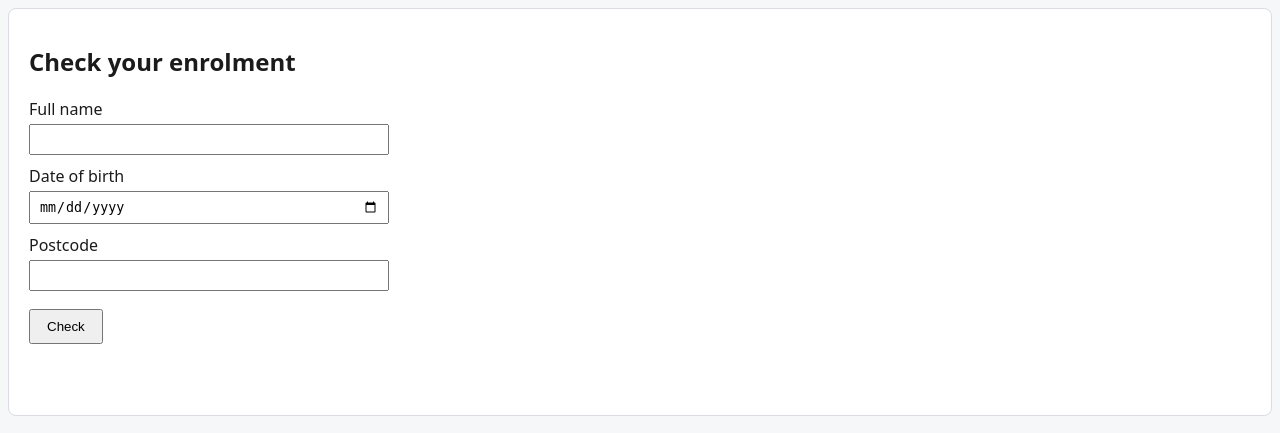
SEC-08 EnrolmentCheckForm › shows only a generic not-found message
This screenshot has width=1280, height=433.
In the field labelled "Full name": coordinates (209, 139) [29, 124, 389, 155], type "Jane Smith"
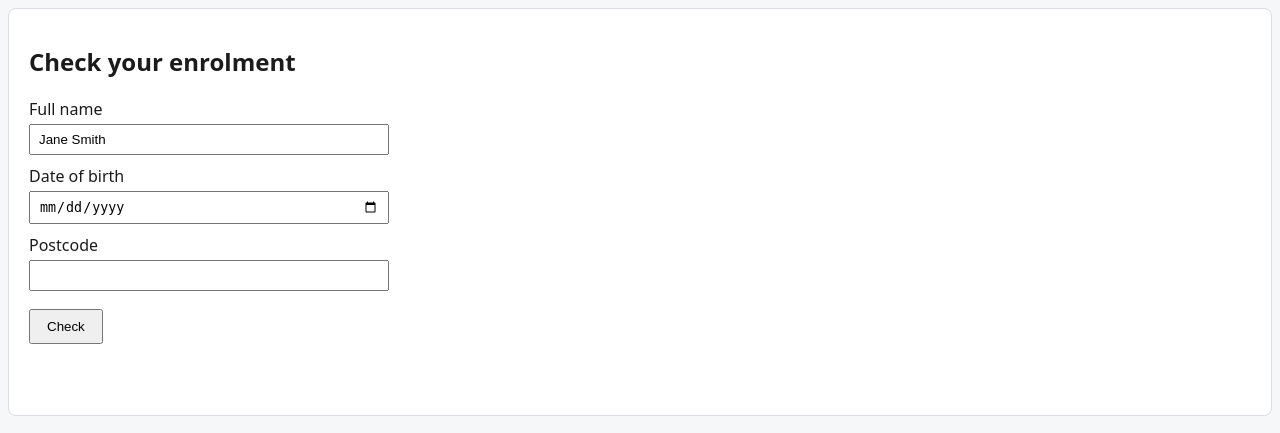
In the date field labelled "Date of birth": coordinates (209, 207) [29, 191, 389, 224], type "1990-01-01"
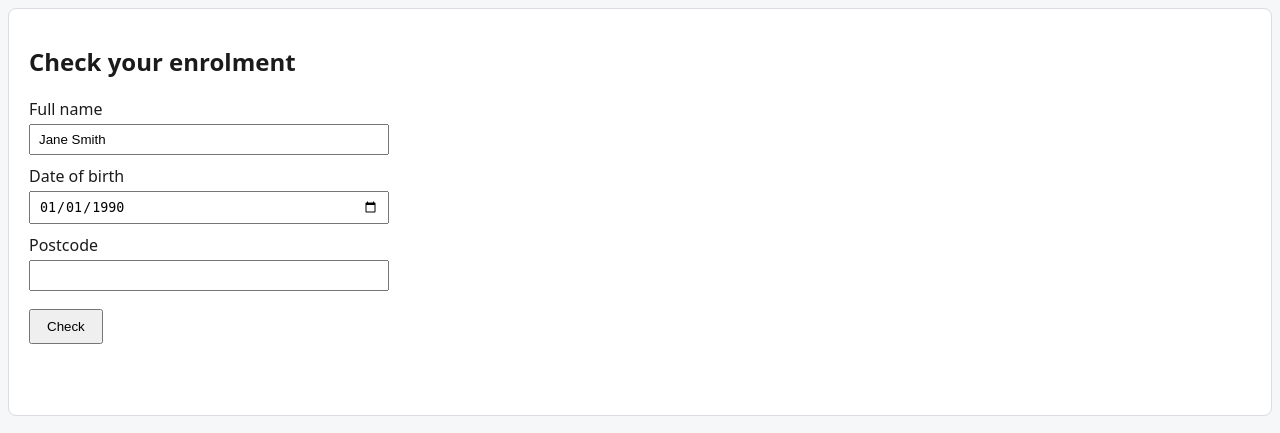
In the field labelled "Postcode": coordinates (209, 276) [29, 260, 389, 291], type "3000"
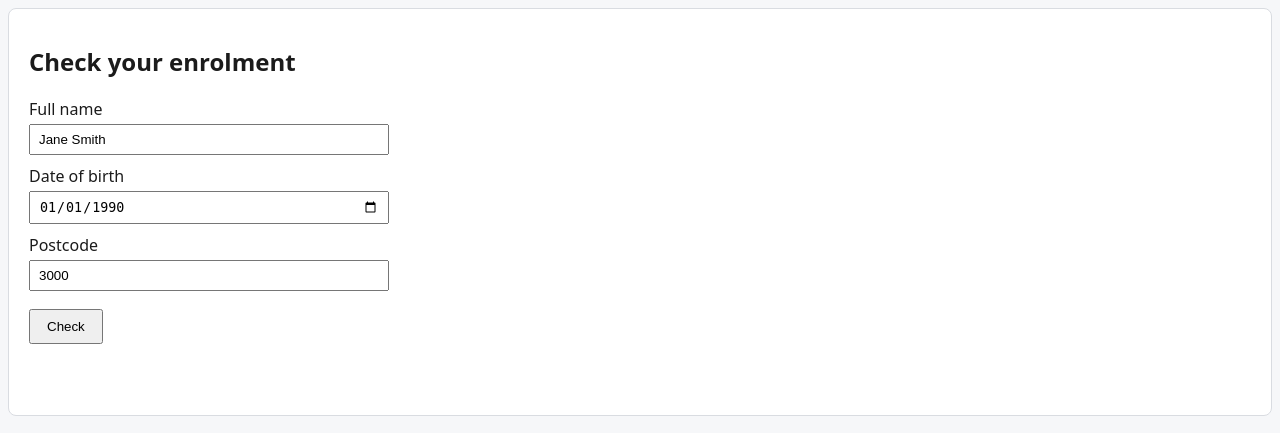
Click the button "Check": coordinates (66, 327) [29, 309, 103, 344]
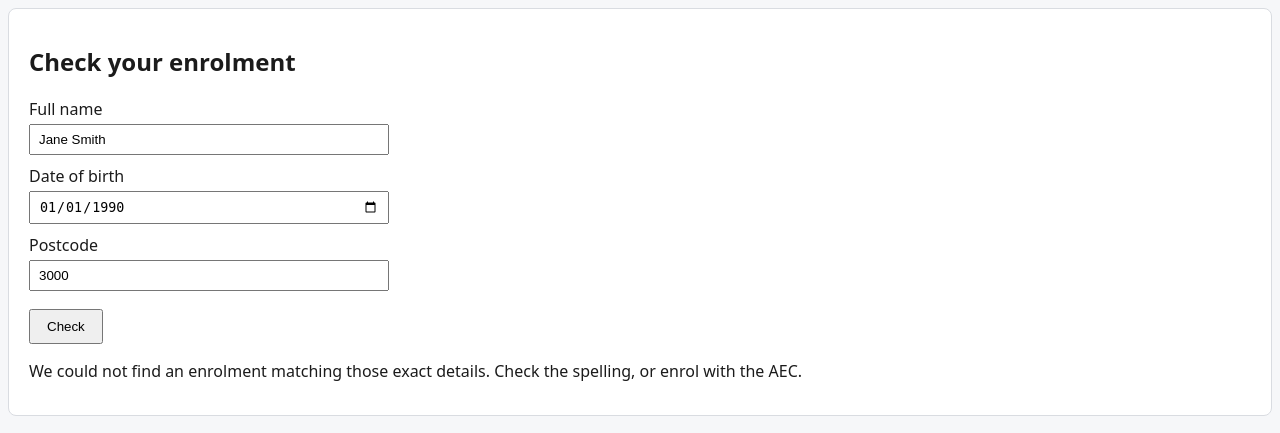
Now the text "could not find an enrolment matching those exact details" is shown, box [29, 360, 802, 382]
